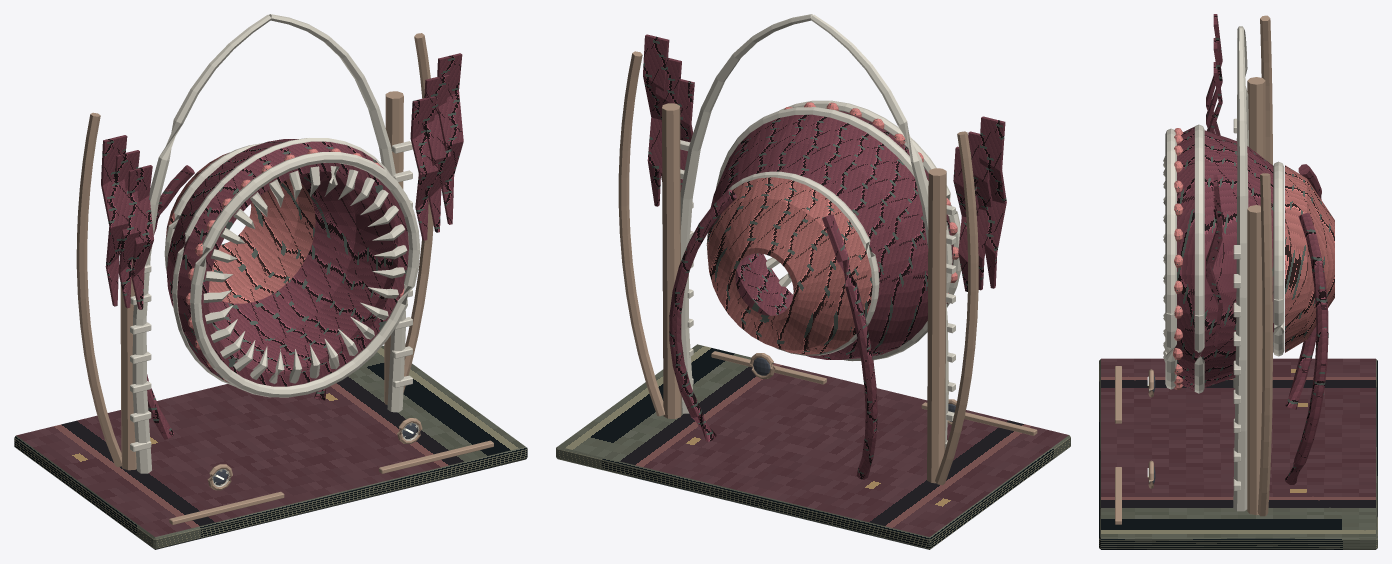
The model's file is heart_mouth_restraint.glb.
3 views of the same model, side by side, from view 1: azimuth 30°, elevation 25°; view 2: azimuth 150°, elevation 25°; view 3: azimuth 270°, elevation 25° (orthographic).
Visible parts, largest first — view 1: heart_mouth_restraint_petrol, heart_mouth_restraint_bruised, heart_mouth_restraint_warm, heart_mouth_restraint_worn, heart_mouth_restraint_suture; view 2: heart_mouth_restraint_petrol, heart_mouth_restraint_bruised, heart_mouth_restraint_worn, heart_mouth_restraint_suture, heart_mouth_restraint_warm; view 3: heart_mouth_restraint_petrol, heart_mouth_restraint_bruised, heart_mouth_restraint_warm, heart_mouth_restraint_worn, heart_mouth_restraint_suture.
Part boxes in pixels (x1,y1,x2,y2): heart_mouth_restraint_petrol: (14,345,527,549); heart_mouth_restraint_bruised: (101,53,463,439); heart_mouth_restraint_warm: (130,14,420,486); heart_mouth_restraint_worn: (76,33,493,524); heart_mouth_restraint_suture: (165,148,404,390); heart_mouth_restraint_petrol: (556,344,1070,549); heart_mouth_restraint_bruised: (643,34,1006,479); heart_mouth_restraint_worn: (618,51,1037,485); heart_mouth_restraint_suture: (707,102,958,354); heart_mouth_restraint_warm: (680,14,961,448); heart_mouth_restraint_petrol: (1099,358,1377,549); heart_mouth_restraint_bruised: (1174,14,1328,484); heart_mouth_restraint_warm: (1149,26,1284,511); heart_mouth_restraint_worn: (1115,15,1272,524); heart_mouth_restraint_suture: (1173,128,1334,389).
Size of the model in its own units: 7.35 by 8.22 by 4.8.
Materials: 7 (3 with a texture image).
